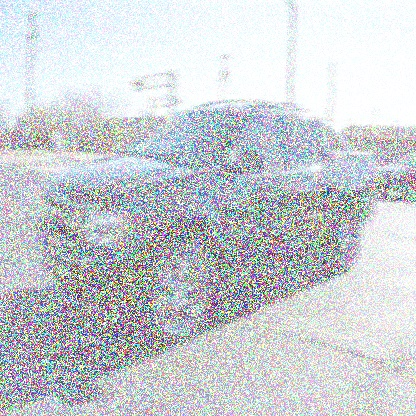Vehicle: (33, 94, 380, 346)
